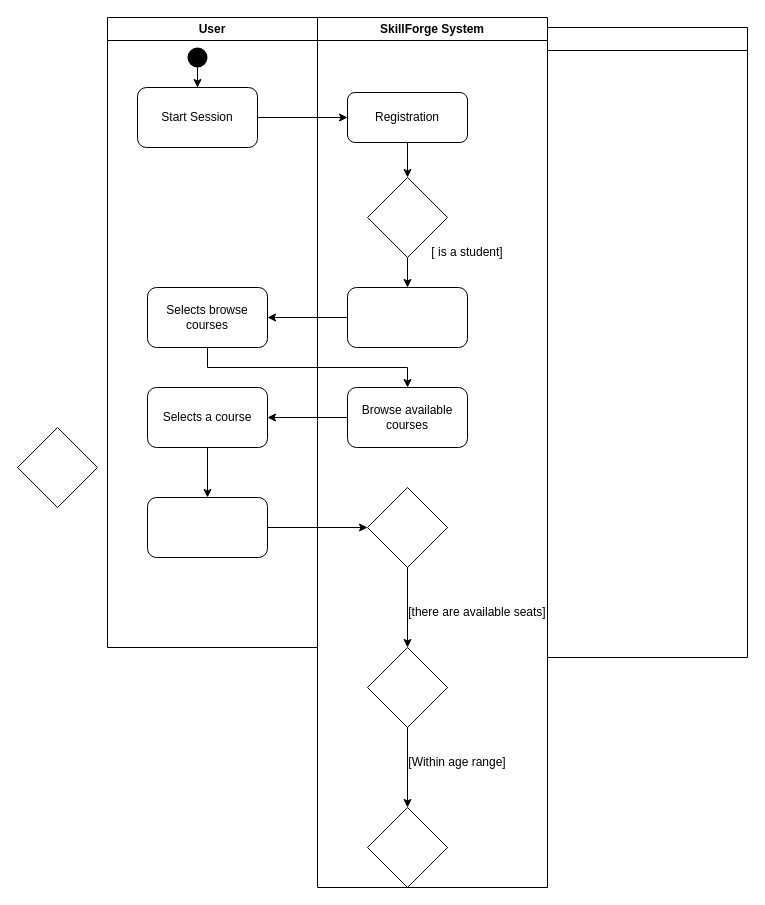
The diagram is 765 pixels wide and 905 high, and some of its shapes have lost their labels. The centre of each missing label's shape, as x and y in pixels:
"Bank" belongs at point 647,342.
"Display homepage" belongs at point 407,317.
"Selects Enroll" belongs at point 207,527.
